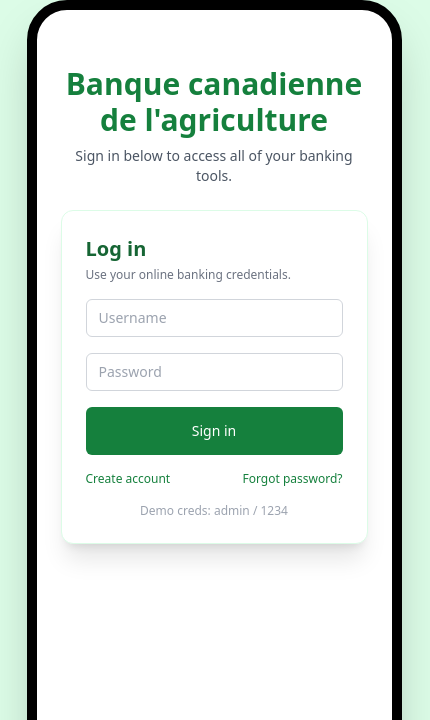
Test: App › sends reset instructions when an email is provided
Click the button "Forgot password?".
click(292, 479)  # box top-left (242, 471), bottom-right (342, 487)
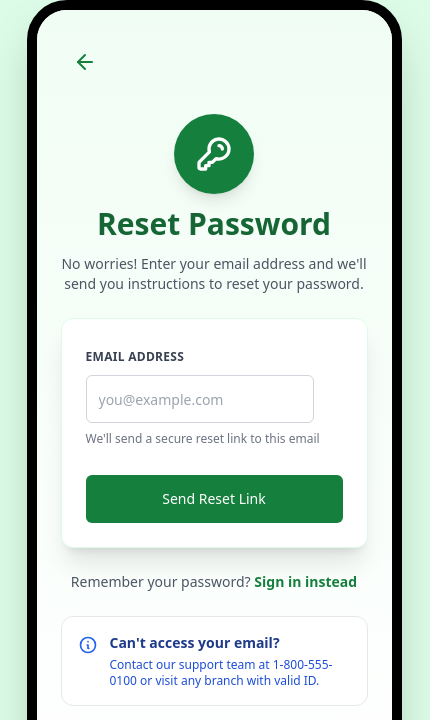
Type "test@example.com" into the field with placeholder "you@example.com".
click(200, 399); type("test@example.com")  # box top-left (86, 375), bottom-right (314, 423)
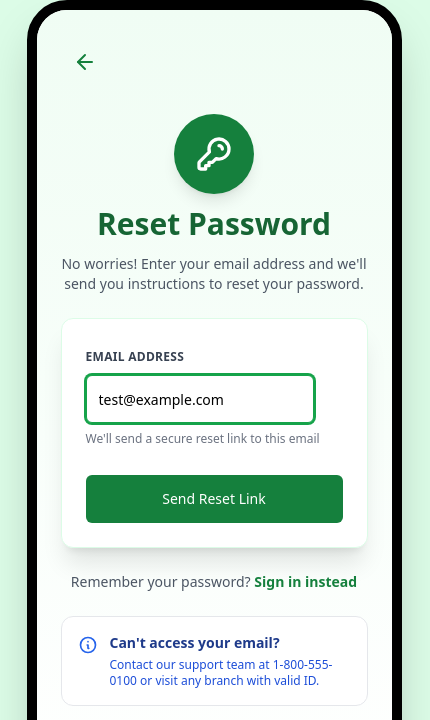
Click the button "Send Reset Link".
click(214, 499)  # box top-left (86, 475), bottom-right (342, 523)
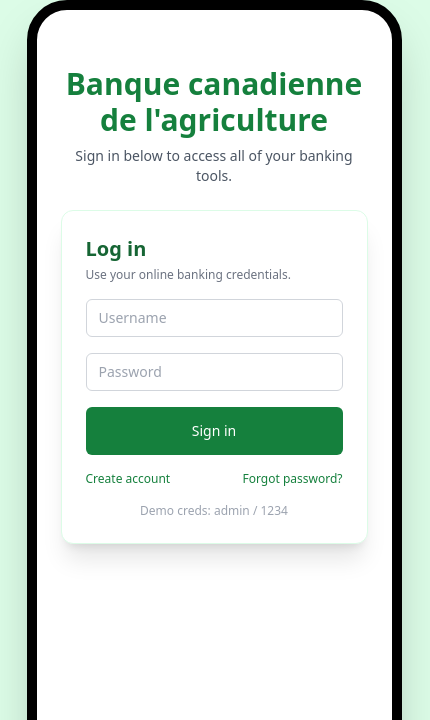
Check: the text "Sign in below to access all of your banking tools." is shown, box top-left (60, 146), bottom-right (368, 186)
